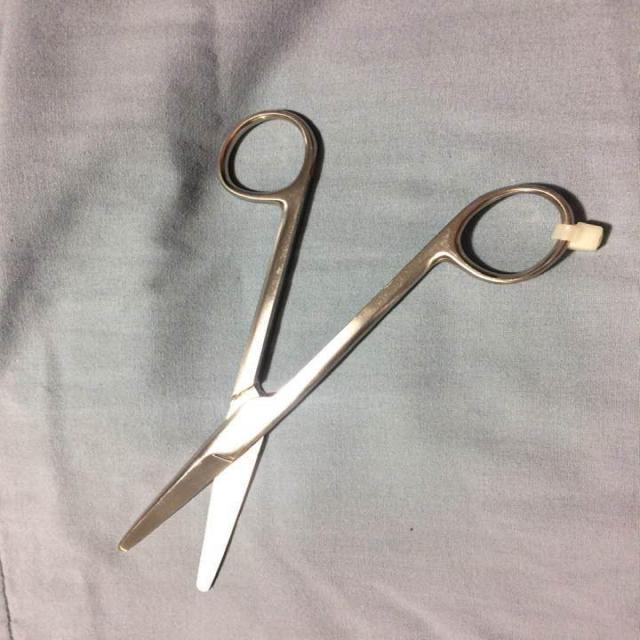Mayo_metz: (111, 102, 591, 598)
